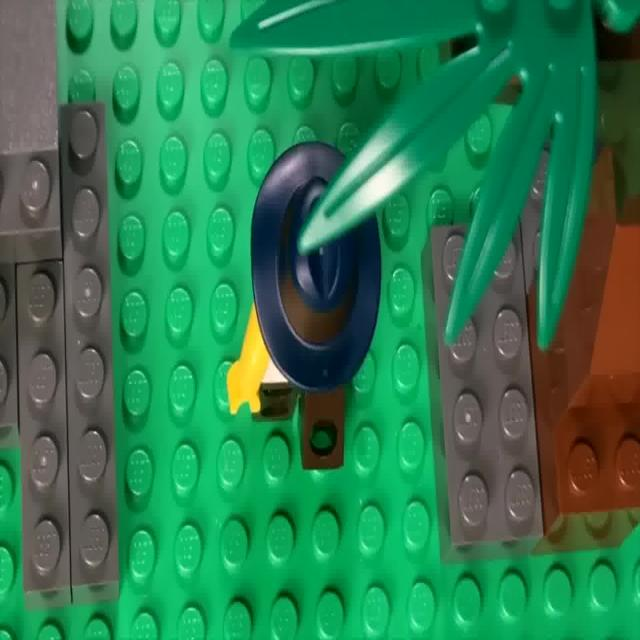4: (219, 293, 279, 451)
figure: (1, 1, 123, 598), (430, 226, 543, 547), (541, 303, 640, 512)
hand: (238, 141, 376, 476)
